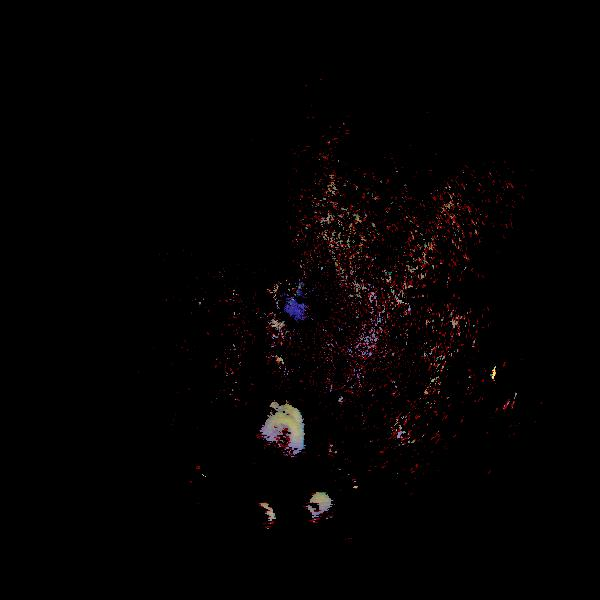roost: (266, 415, 302, 451), (271, 403, 307, 439), (245, 501, 278, 534), (307, 494, 331, 518), (297, 505, 318, 526)
